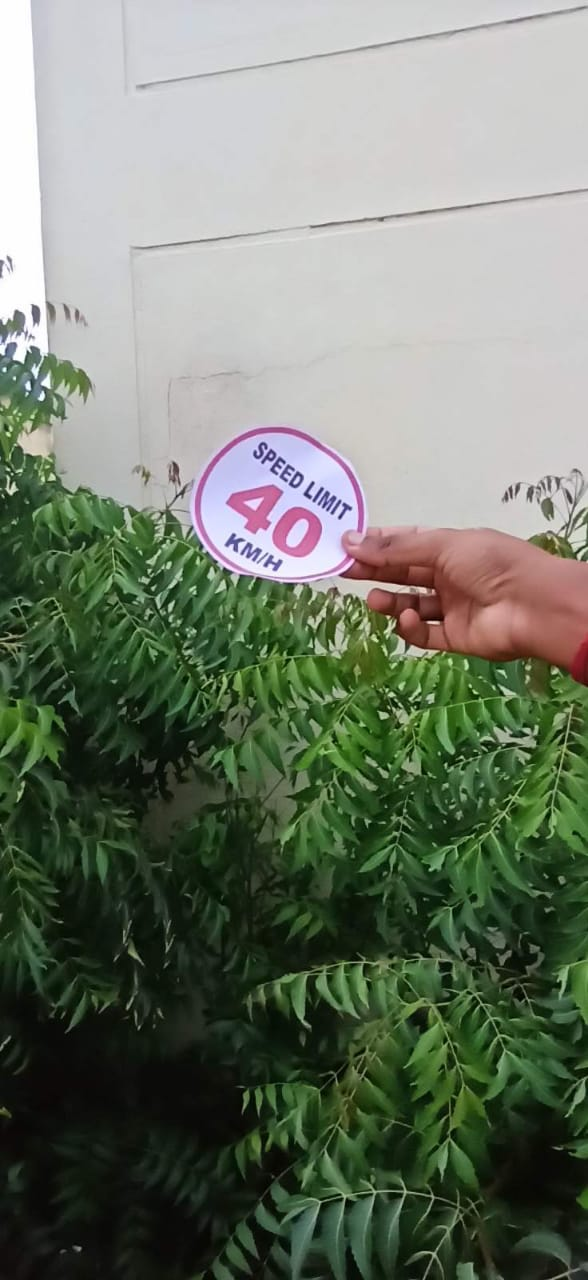SPEED LIMIT (40 KM/H): (166, 400, 398, 598)
